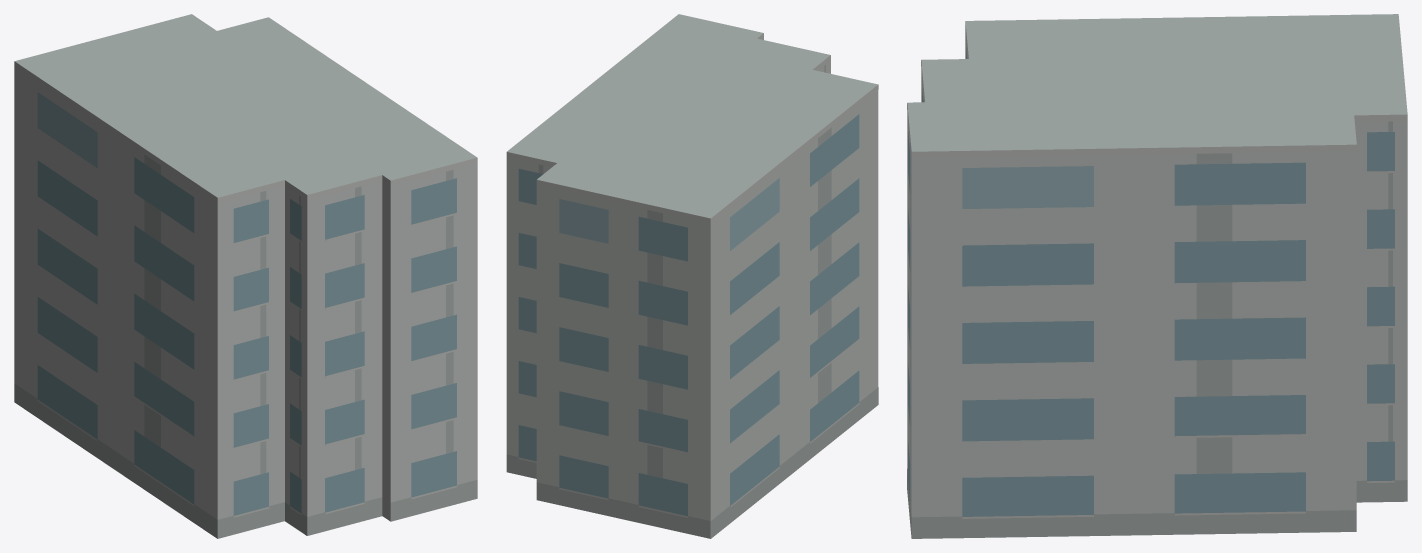
Rendered from survey-upis-32949540.glb.
3 views of the same model, side by side, from view 1: azimuth 30°, elevation 25°; view 2: azimuth 150°, elevation 25°; view 3: azimuth 270°, elevation 25° (orthographic). The views are drawn at different scales.
Parts seen in each view (by area): view 1: survey-upis-32949540.tmp; view 2: survey-upis-32949540.tmp; view 3: survey-upis-32949540.tmp.
Boxes of the visible parts, x1,y1,x2,y2 form: survey-upis-32949540.tmp: (14,14,477,538); survey-upis-32949540.tmp: (506,14,878,538); survey-upis-32949540.tmp: (907,14,1407,538).
Size of the model in its own units: 10.99 by 14.4 by 16.88.
